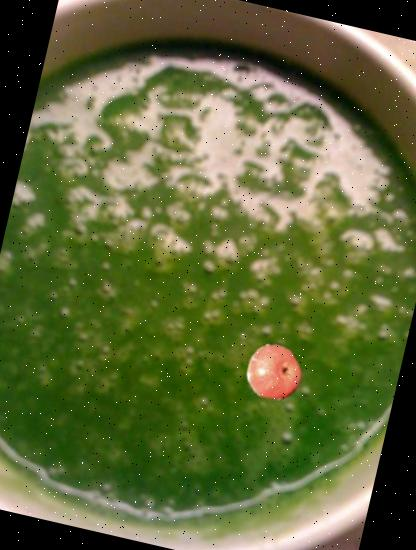Clementine: (238, 338, 310, 410)
